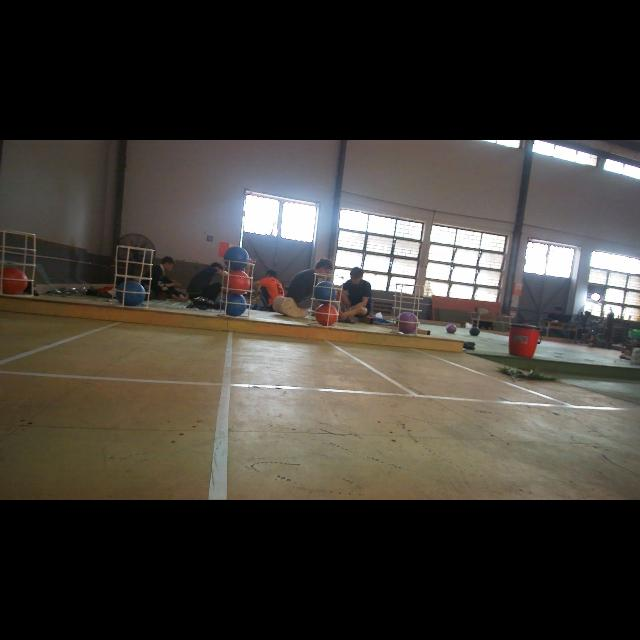B: (117, 280, 147, 308), (224, 246, 250, 272), (220, 294, 250, 314), (314, 280, 338, 302)
R: (0, 266, 28, 298), (224, 272, 252, 296), (314, 303, 340, 327)
